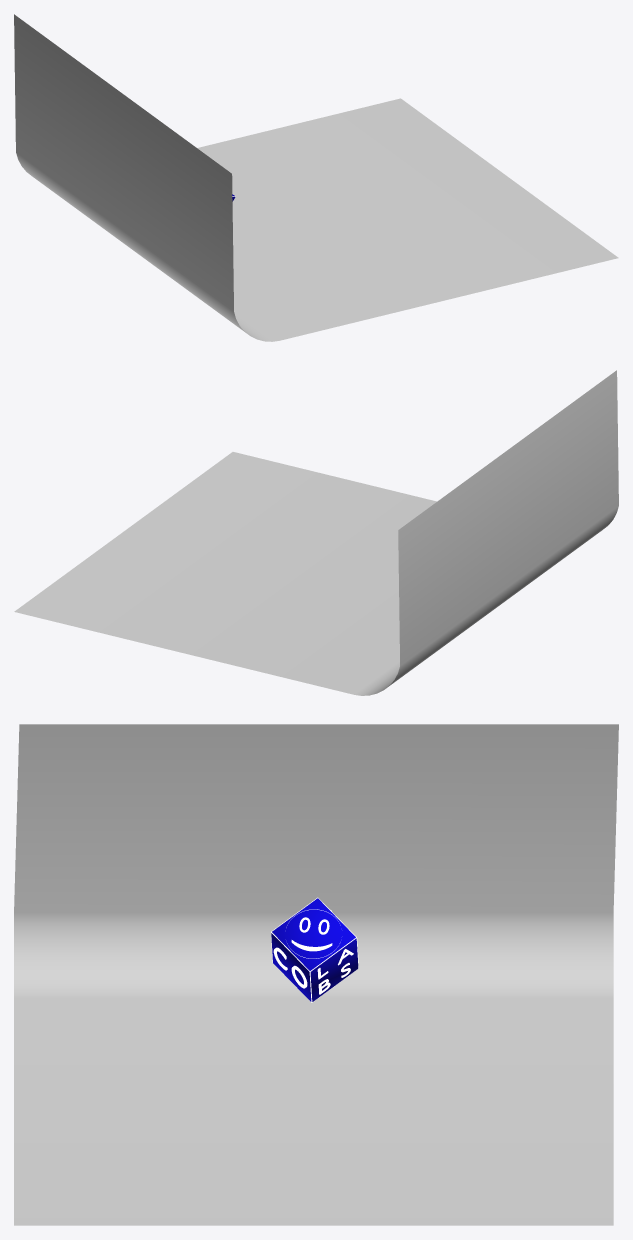
File: messingaround.gltf
The picture shows the model from 3 angles, top to bottom: view 1: azimuth 30°, elevation 25°; view 2: azimuth 150°, elevation 25°; view 3: azimuth 270°, elevation 25°; orthographic projection. The views are drawn at different scales.
Parts seen in each view (by area): view 1: Plane; view 2: Plane; view 3: Plane, Cube.
Boxes of the visible parts, x1,y1,x2,y2 form: Plane: (14,14,618,341); Plane: (14,370,618,695); Plane: (14,724,618,1225); Cube: (271,898,358,1001).
Bounding box in the file's own units: 19.73 × 8.66 × 19.54.
